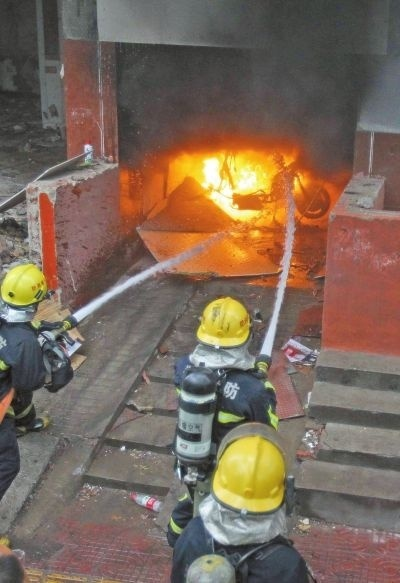fire: (187, 146, 287, 218)
